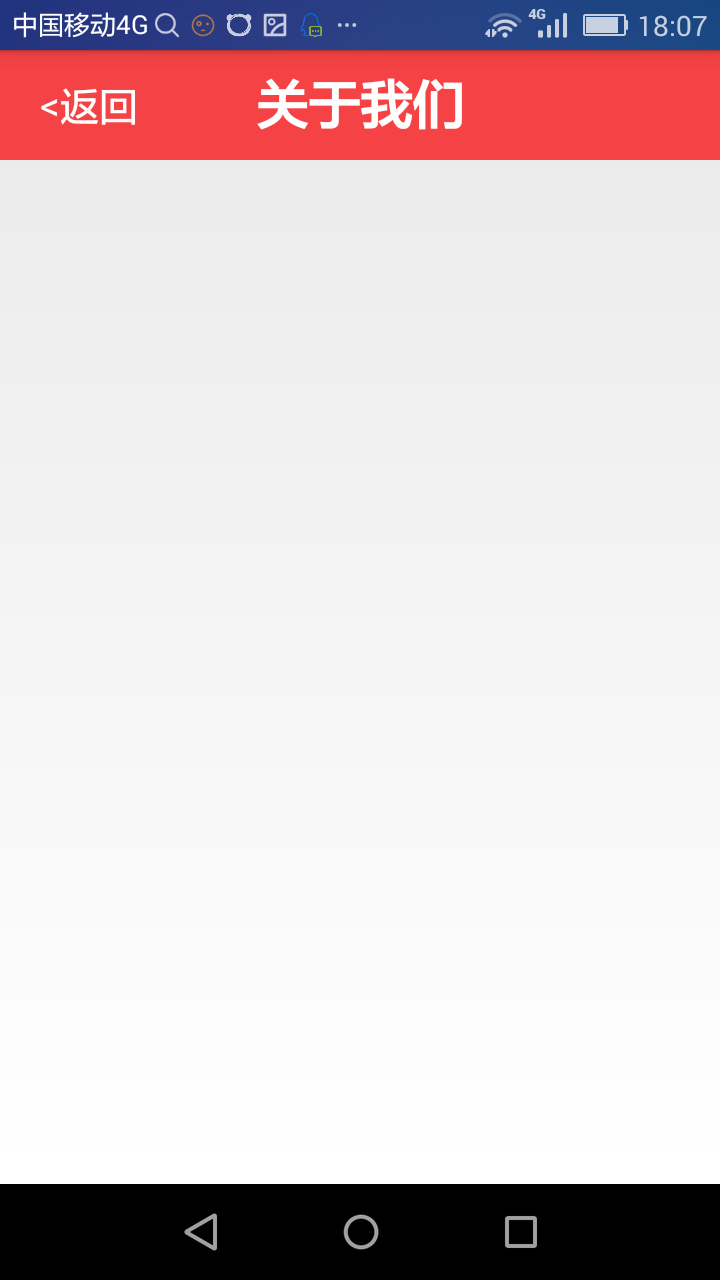button: (25, 77, 179, 149)
